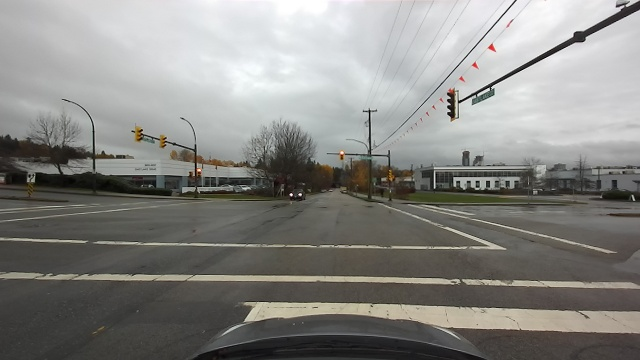car: (287, 188, 308, 203), (233, 184, 252, 193)
